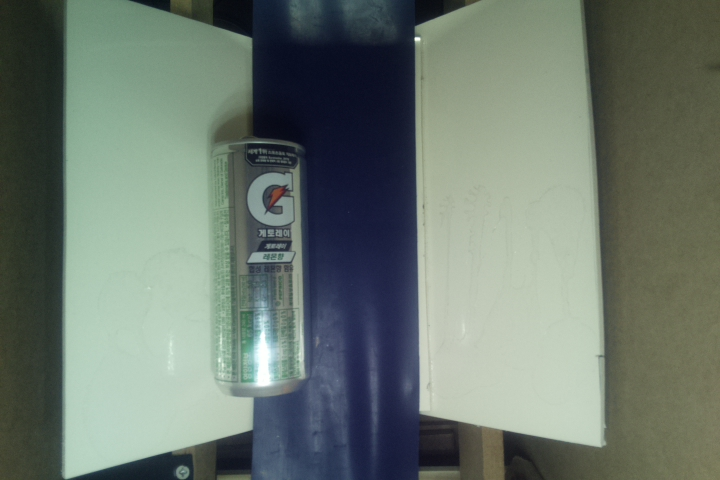can: (213, 137, 307, 400)
